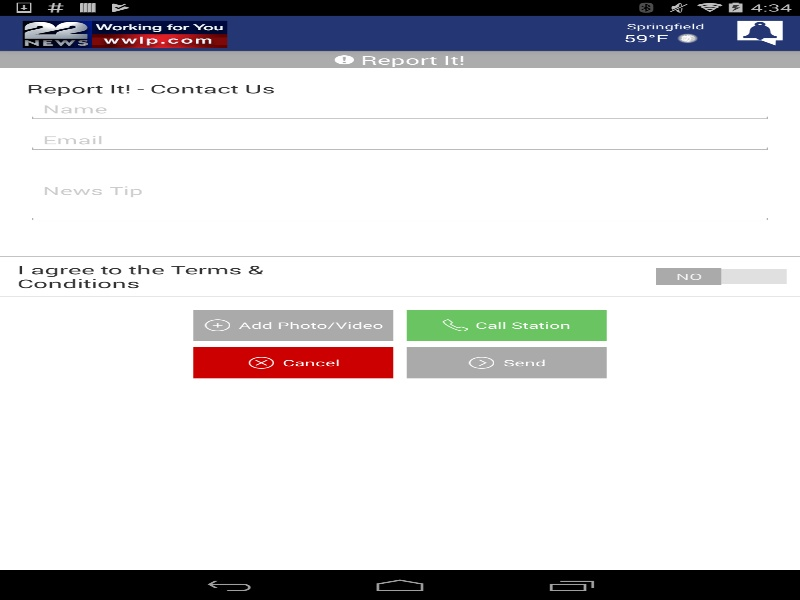Input: (26, 158, 773, 222), (26, 96, 773, 121), (26, 127, 773, 152)
